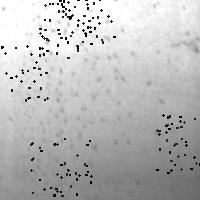pitted_surface: (16, 1, 134, 158), (30, 138, 90, 195), (39, 0, 98, 57), (0, 45, 56, 99), (156, 114, 200, 173), (58, 0, 114, 41)
